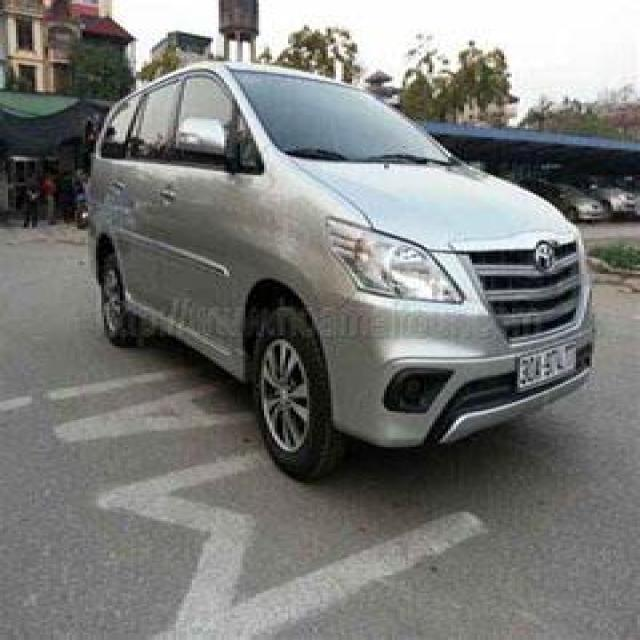car: (52, 50, 612, 505)
